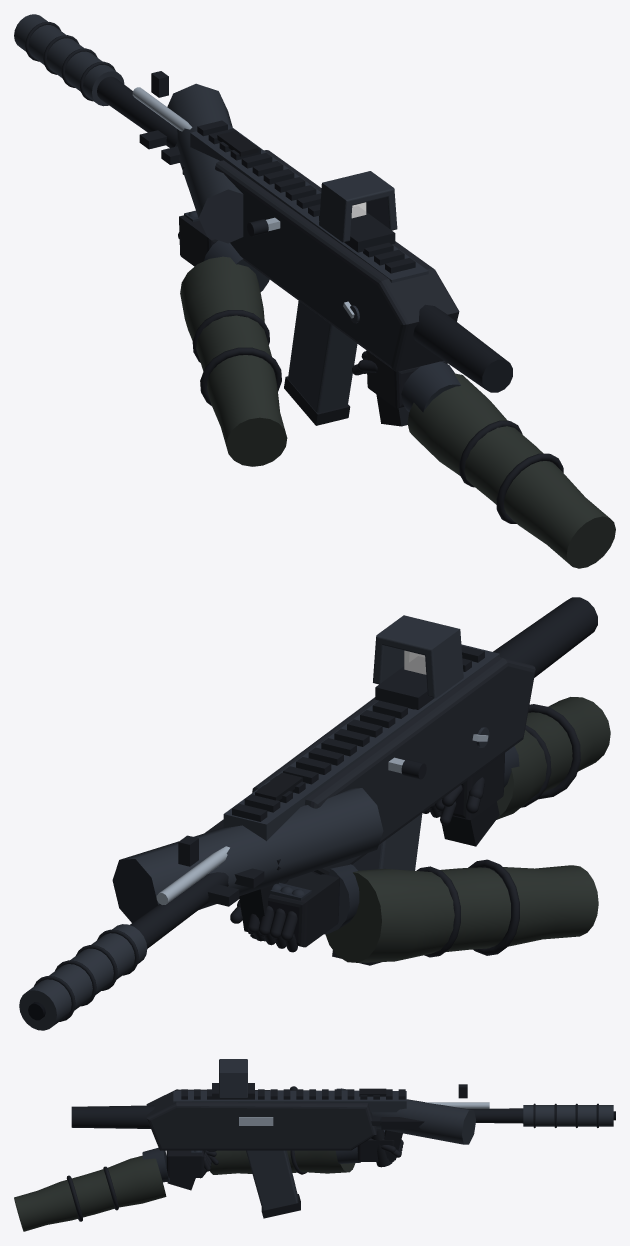
The model's file is m41x_rifle.glb.
3 renders of one model, top to bottom at view 1: azimuth 30°, elevation 25°; view 2: azimuth 150°, elevation 25°; view 3: azimuth 270°, elevation 25°, orthographic. The views are drawn at different scales.
Visible parts, largest first — view 1: RightHand, ReceiverMain, LeftHand, Magazine, object 26, object 2, object 51, object 34, object 7, object 32, object 50, object 33; view 2: LeftHand, ReceiverMain, object 26, RightHand, object 34, object 51, object 2, object 7, object 32, Magazine, object 50, object 48 (+4 smaller); view 3: ReceiverMain, RightHand, LeftHand, object 26, Magazine, object 7, object 34, object 2, object 51, object 32, object 41, object 33 (+5 smaller).
Boxes of the visible parts, bbox=[...] form: RightHand: bbox=[352, 350, 615, 568]; ReceiverMain: bbox=[215, 150, 459, 371]; LeftHand: bbox=[178, 210, 287, 466]; Magazine: bbox=[284, 301, 357, 425]; object 26: bbox=[167, 83, 243, 243]; object 2: bbox=[413, 304, 512, 392]; object 51: bbox=[319, 171, 397, 242]; object 34: bbox=[14, 14, 124, 106]; object 7: bbox=[190, 123, 428, 282]; object 32: bbox=[97, 76, 177, 147]; object 50: bbox=[344, 212, 395, 252]; object 33: bbox=[132, 87, 192, 131]; LeftHand: bbox=[230, 859, 598, 962]; ReceiverMain: bbox=[252, 656, 535, 874]; object 26: bbox=[112, 788, 383, 922]; RightHand: bbox=[423, 697, 610, 825]; object 34: bbox=[19, 924, 147, 1030]; object 51: bbox=[373, 615, 463, 698]; object 2: bbox=[493, 597, 597, 677]; object 7: bbox=[223, 644, 499, 841]; object 32: bbox=[130, 872, 228, 948]; Magazine: bbox=[332, 813, 422, 965]; object 50: bbox=[375, 666, 434, 709]; object 48: bbox=[440, 783, 499, 846]; ReceiverMain: bbox=[146, 1089, 376, 1150]; RightHand: bbox=[14, 1147, 218, 1231]; LeftHand: bbox=[210, 1130, 403, 1174]; object 26: bbox=[337, 1088, 476, 1144]; Magazine: bbox=[246, 1150, 300, 1218]; object 7: bbox=[173, 1091, 406, 1112]; object 34: bbox=[523, 1105, 613, 1126]; object 2: bbox=[71, 1105, 155, 1128]; object 51: bbox=[219, 1059, 247, 1097]; object 32: bbox=[468, 1108, 523, 1123]; object 41: bbox=[381, 1117, 424, 1129]; object 33: bbox=[425, 1102, 489, 1108].
Size of the model in its own units: 0.3863 by 0.4427 by 1.6.
